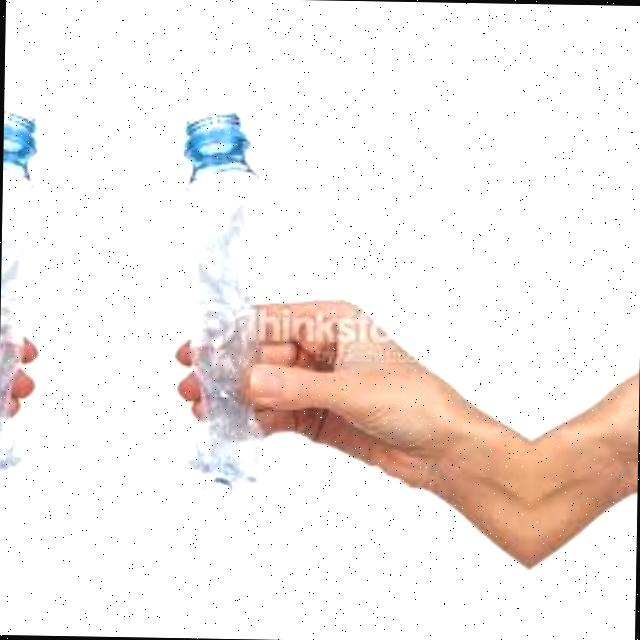Plastic: (169, 59, 292, 510), (0, 55, 43, 505)
